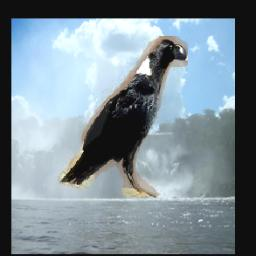Crow: (59, 36, 189, 198)
